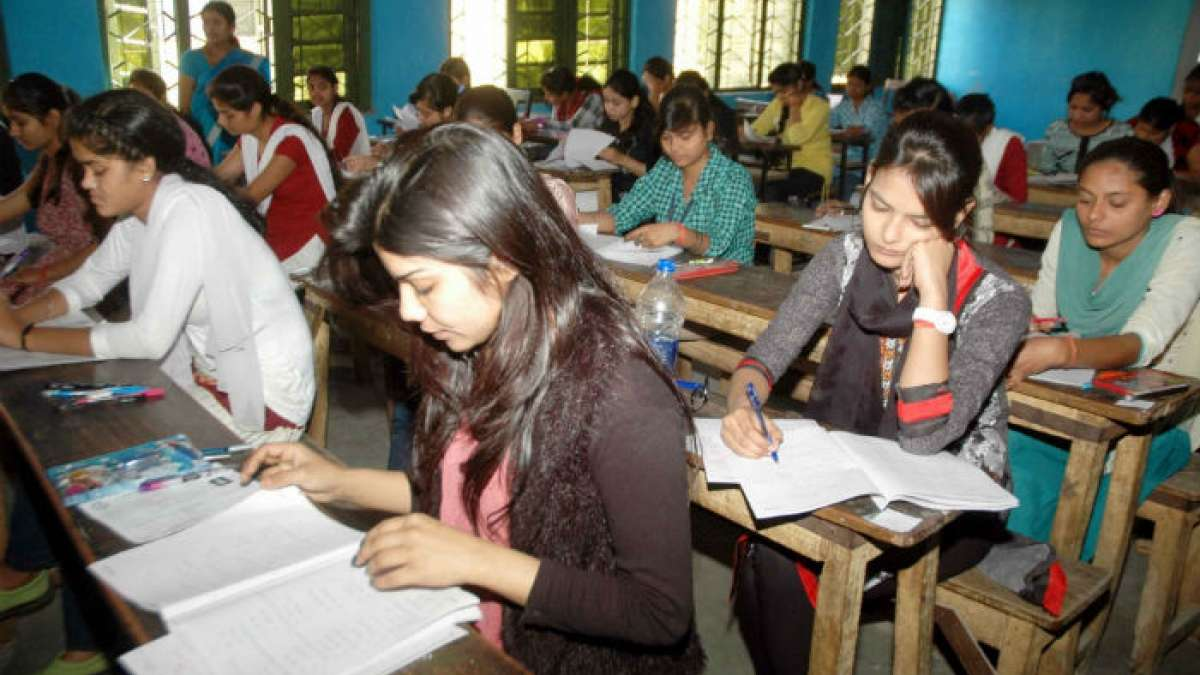invigilator: (188, 7, 262, 170)
student: (261, 118, 658, 600), (698, 137, 1012, 506), (26, 55, 287, 366), (1001, 132, 1197, 411), (609, 90, 755, 286), (1046, 67, 1136, 169)
